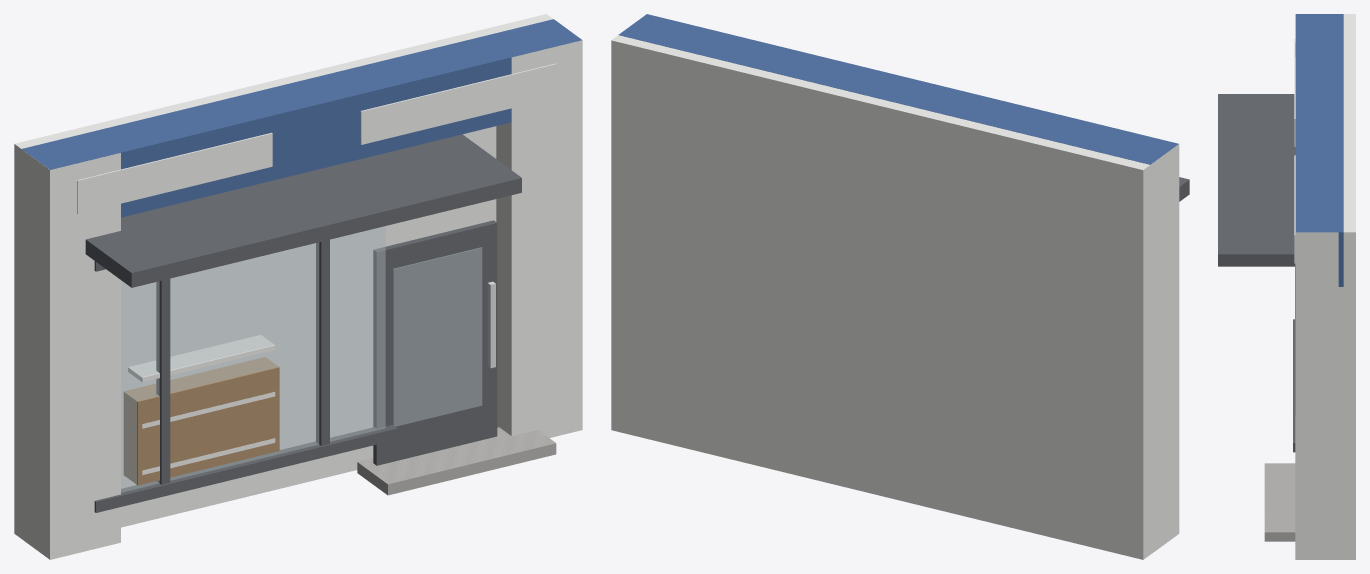
The model's file is marina-and-yacht-club-marina-and-yacht-club-chandlery--c2aa9116__38320.glb.
3 views of the same model, side by side, from view 1: azimuth 30°, elevation 25°; view 2: azimuth 150°, elevation 25°; view 3: azimuth 270°, elevation 25° (orthographic). The views are drawn at different scales.
Parts seen in each view (by area): view 1: marina-and-yacht-club-chandlery-front, chandlery-door/charcoal, chandlery-door/glass, chandlery-door/steel; view 2: marina-and-yacht-club-chandlery-front; view 3: marina-and-yacht-club-chandlery-front.
Part boxes in pixels (x1,y1,x2,y2): marina-and-yacht-club-chandlery-front: (14,14,582,559); chandlery-door/charcoal: (373,220,497,465); chandlery-door/glass: (392,247,482,426); chandlery-door/steel: (487,281,495,368); marina-and-yacht-club-chandlery-front: (611,14,1189,559); marina-and-yacht-club-chandlery-front: (1218,14,1355,559).
Bounding box in the file's own units: 6 × 4.2 × 1.6.
7 materials, 1 textured.
